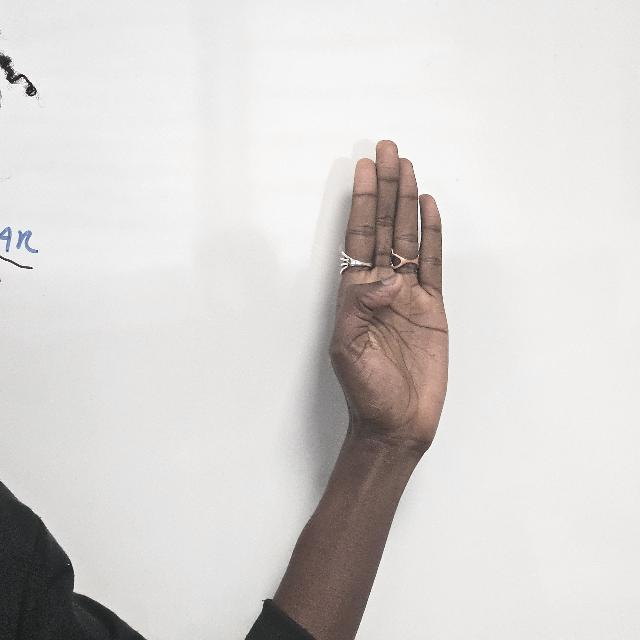Baixo: (323, 142, 451, 452)
